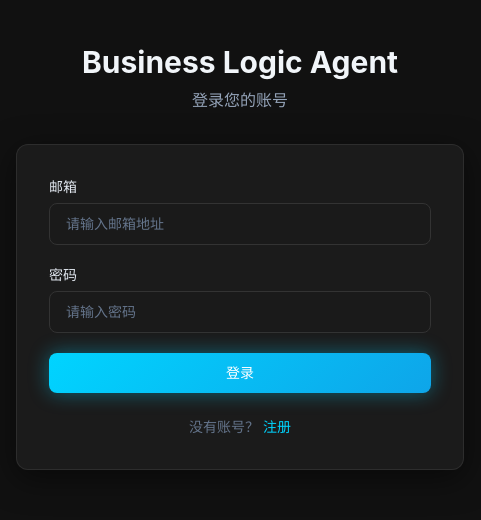
Test case: LoginPage › 空密码提交应显示错误
Type "test@example.com" into the field labelled "邮箱" at [240, 224], box [49,203,431,245]
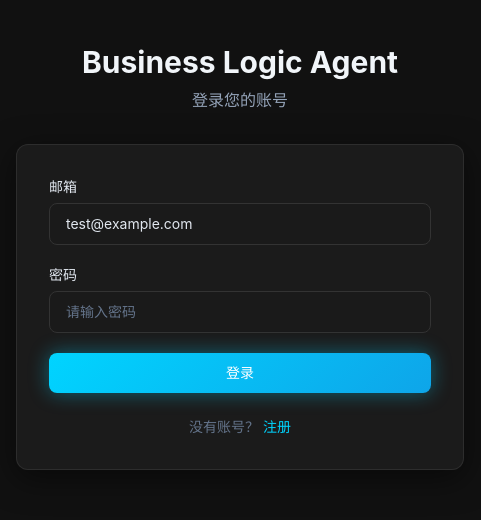
Click the button "登录" at [240, 373], box [49,353,431,393]
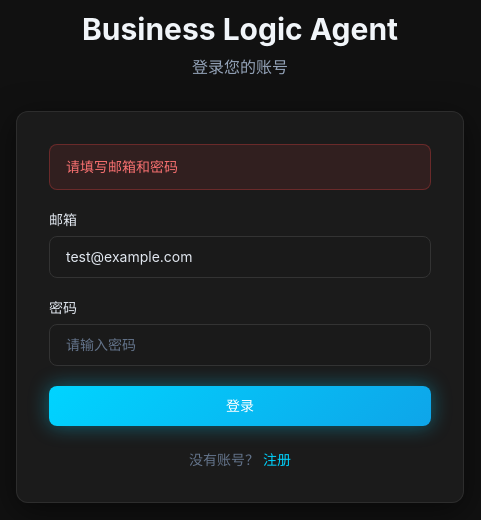
Result: the text "请填写邮箱和密码" is shown at [49,144,431,190]
